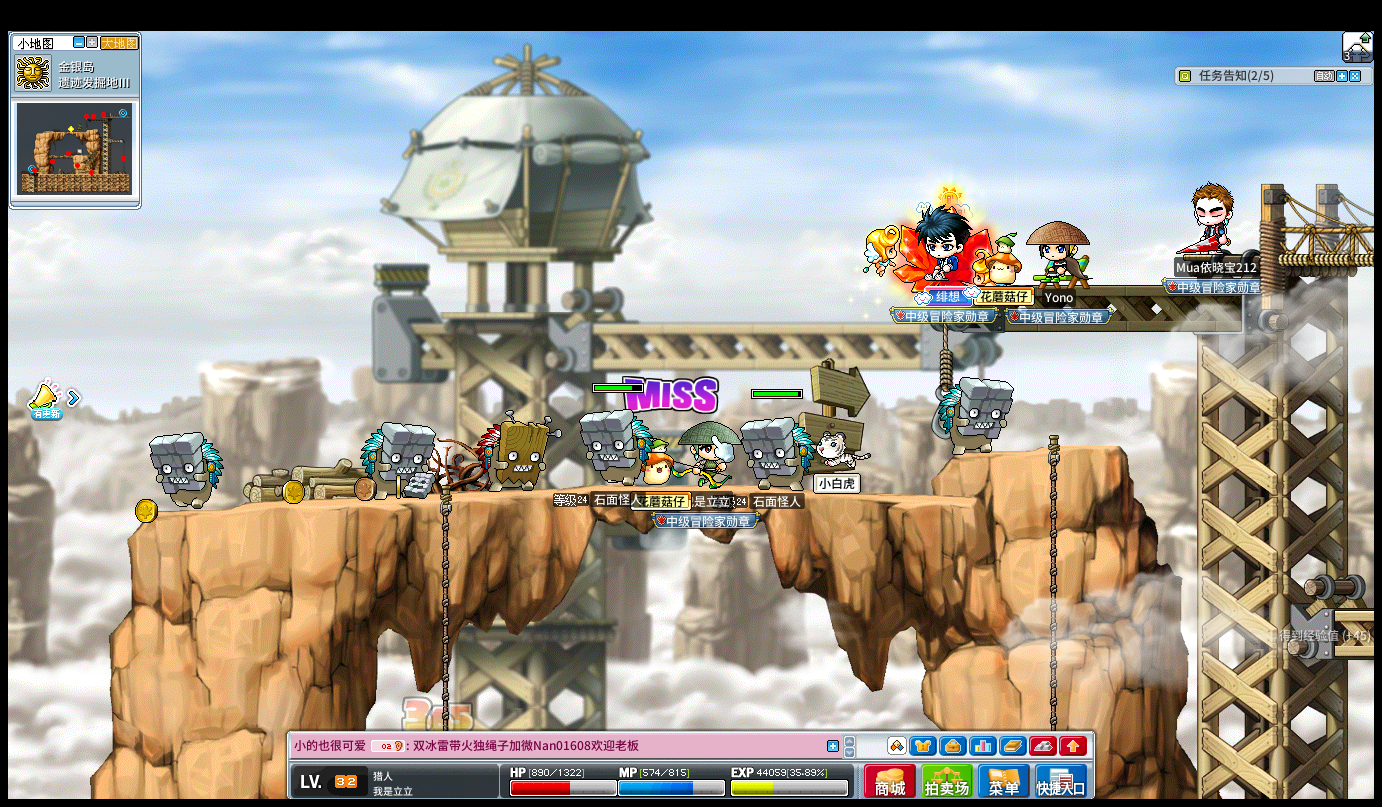floor: (139, 481, 1012, 513), (143, 479, 1024, 502), (953, 442, 1125, 458), (1336, 606, 1380, 619)
monster: (478, 409, 554, 492), (148, 431, 224, 512), (937, 377, 1013, 456), (361, 422, 435, 502), (579, 408, 651, 485), (740, 416, 812, 489)
rope: (1045, 433, 1060, 717), (437, 481, 451, 729), (438, 486, 452, 666)
